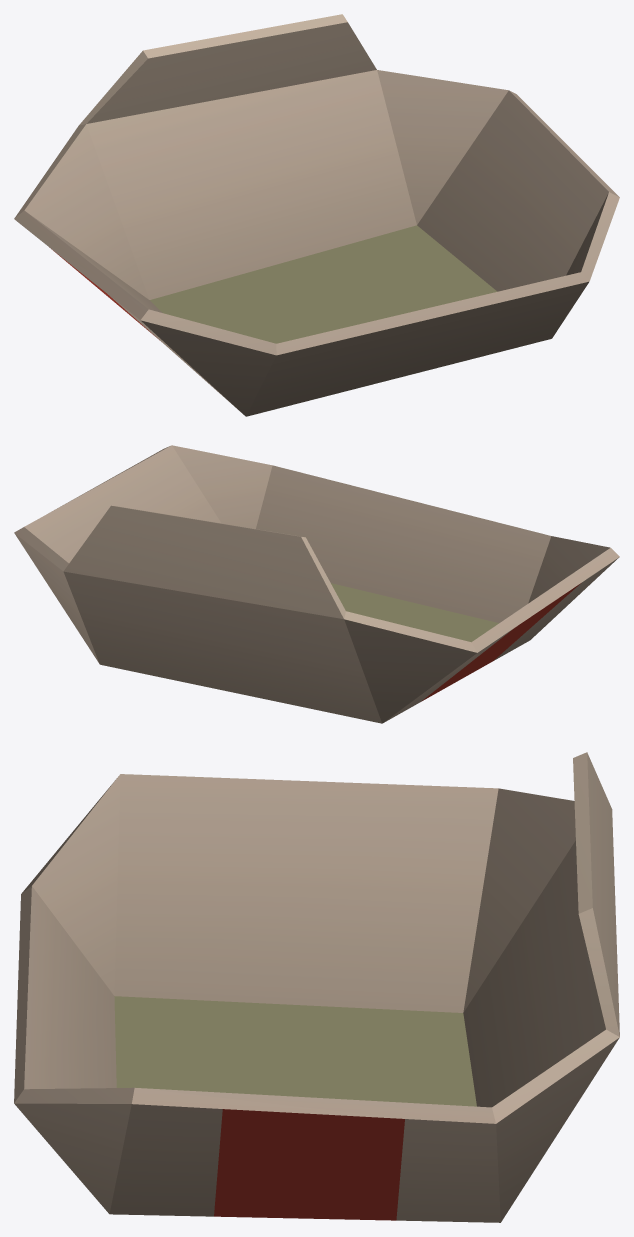
File: Trash_008.glb
3 views of the same model, one above another, from view 1: azimuth 30°, elevation 25°; view 2: azimuth 150°, elevation 25°; view 3: azimuth 270°, elevation 25° (orthographic). The views are drawn at different scales.
Visible parts, largest first — view 1: Trash_008; view 2: Trash_008; view 3: Trash_008.
Boxes of the visible parts, x1,y1,x2,y2 form: Trash_008: [14, 14, 619, 416]; Trash_008: [14, 445, 619, 723]; Trash_008: [14, 752, 619, 1222].
Size of the model in its own units: 0.1692 by 0.0697 by 0.1252.
Materials: 1 (1 with a texture image).
